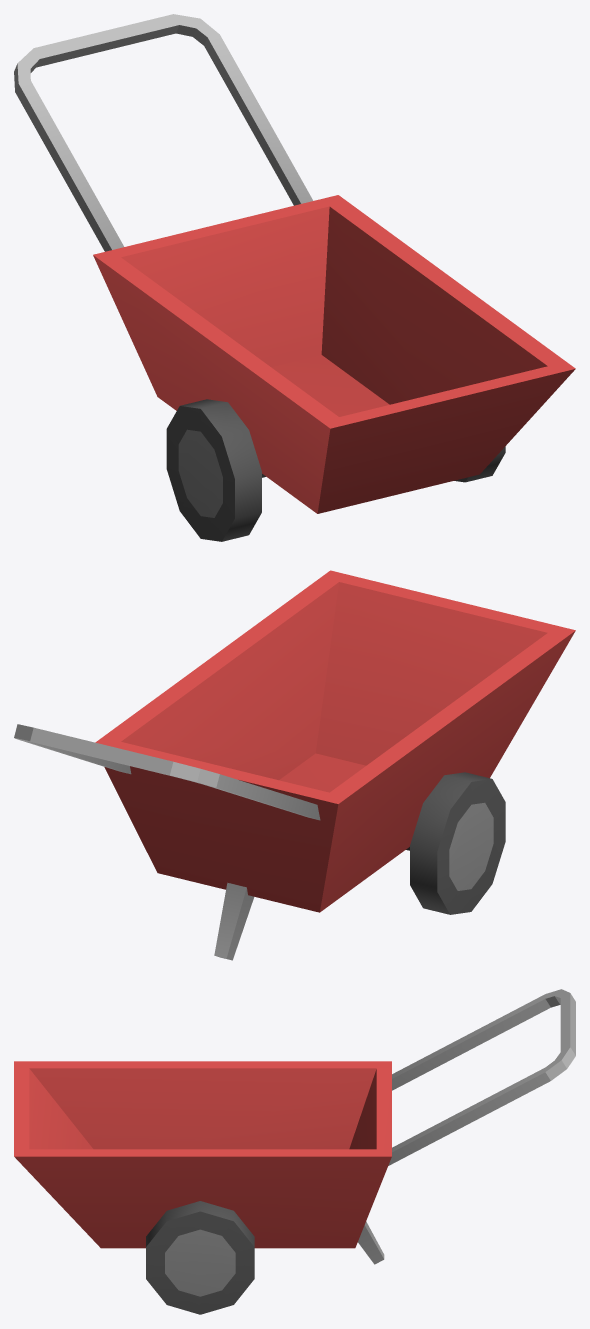
File: cart_006.glb
3 views of the same model, one above another, from view 1: azimuth 30°, elevation 25°; view 2: azimuth 150°, elevation 25°; view 3: azimuth 270°, elevation 25° (orthographic). The views are drawn at different scales.
Visible parts, largest first — view 1: cart_006; view 2: cart_006; view 3: cart_006.
Boxes of the visible parts, bbox=[...] form: cart_006: bbox=[14, 14, 575, 541]; cart_006: bbox=[14, 570, 575, 960]; cart_006: bbox=[14, 989, 575, 1314].
Bounding box in the file's own units: 0.8309 × 0.8932 × 1.88.
Materials: 1 (1 with a texture image).
